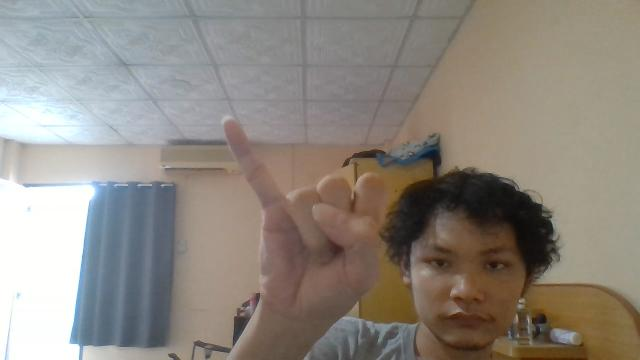Right: (222, 114, 388, 326)
